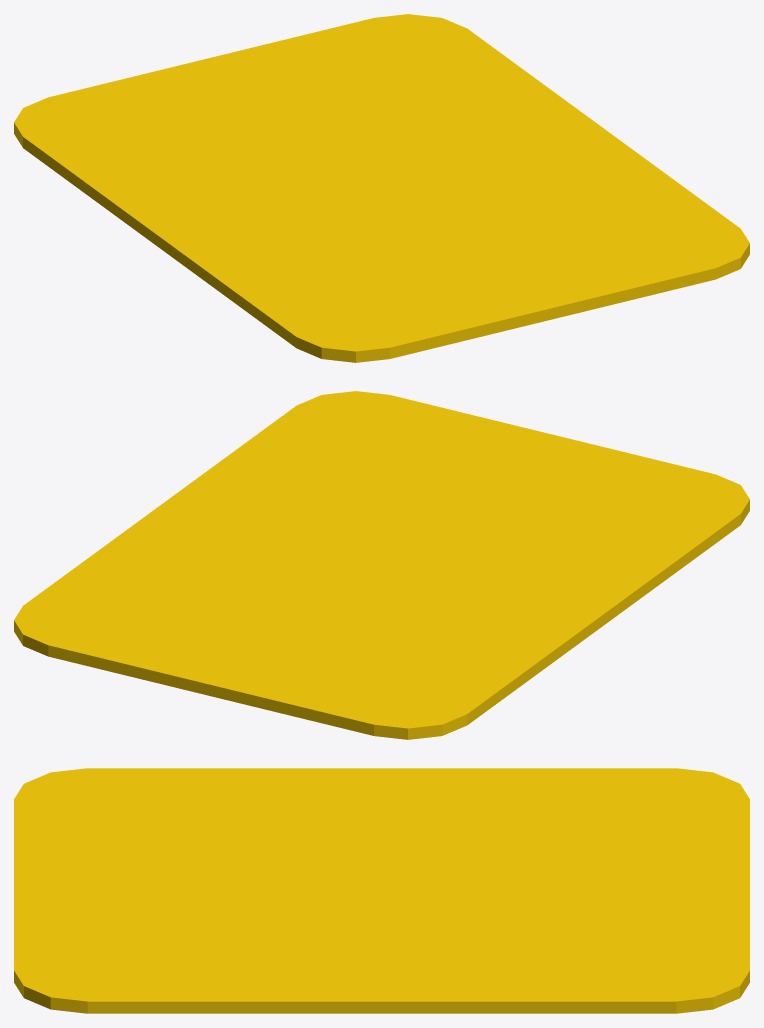
Rendered from card_yellow.glb.
3 views of the same model, one above another, from view 1: azimuth 30°, elevation 25°; view 2: azimuth 150°, elevation 25°; view 3: azimuth 270°, elevation 25° (orthographic). The views are drawn at different scales.
Parts seen in each view (by area): view 1: Card_Yellow; view 2: Card_Yellow; view 3: Card_Yellow.
Boxes of the visible parts, bbox=[...] form: Card_Yellow: bbox=[14, 14, 749, 362]; Card_Yellow: bbox=[14, 391, 749, 739]; Card_Yellow: bbox=[14, 768, 749, 1013].
Size of the model in its own units: 0.09 by 0.0022 by 0.12.
